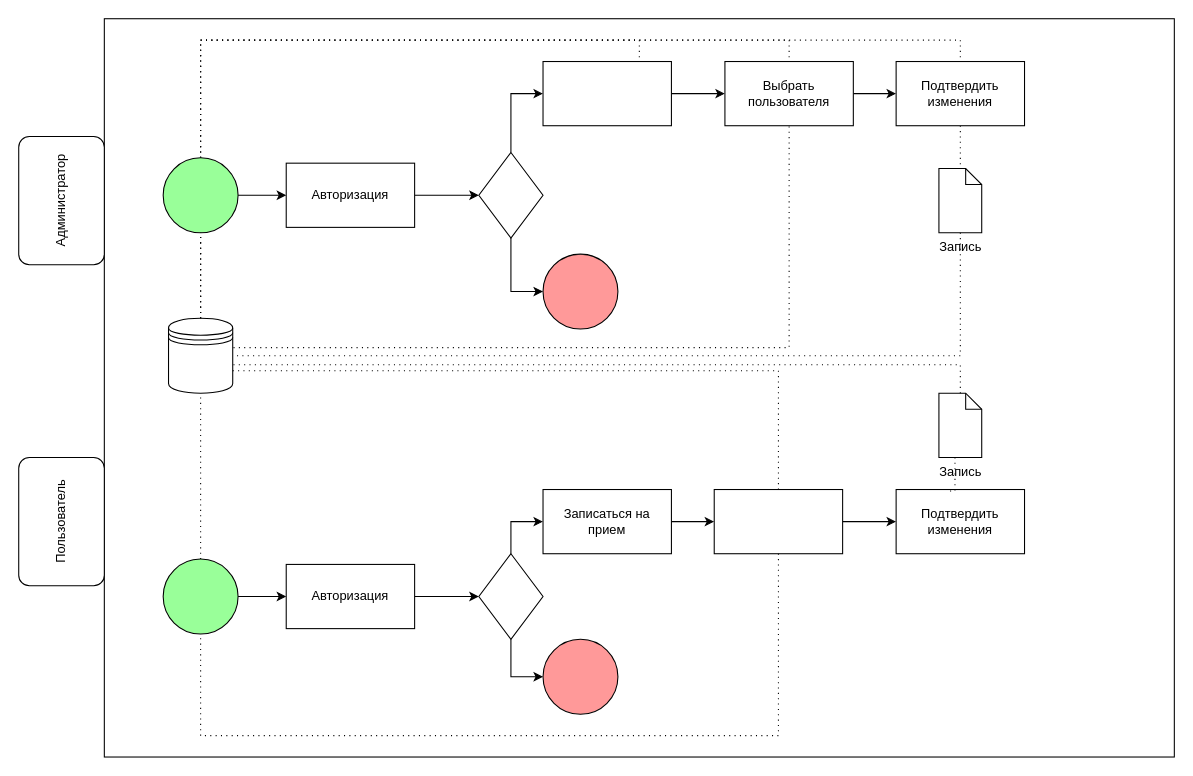
Some shapes in this 1193 by 776 pixel diagram are drawn without their labels. The shapes that lost their labels are listed below. From the top down, each one's centre as x and y in pixels, then its label:
At (x=606, y=93): "Заблокировать пользователя".
At (x=200, y=355): "БД".
At (x=778, y=521): "Выбрать дату".
